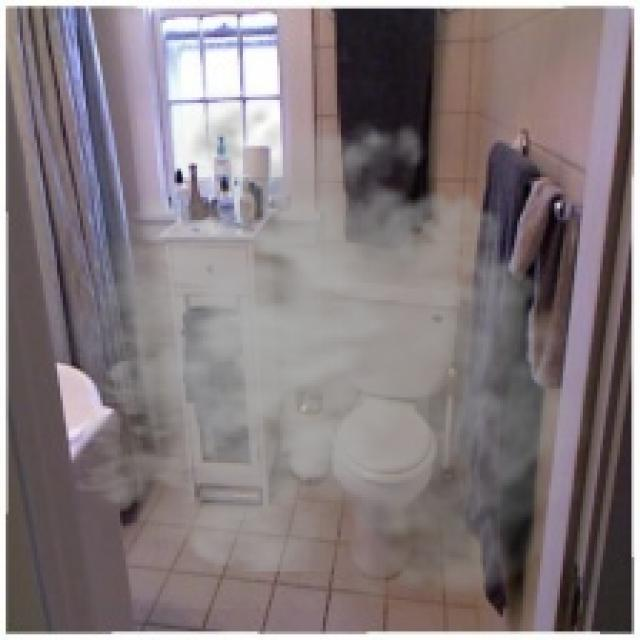Smoke: (37, 89, 606, 608)
